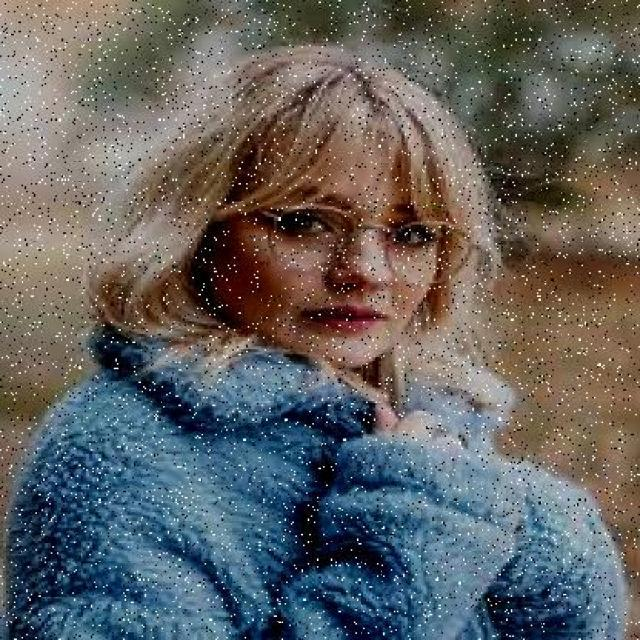glasses: (245, 198, 488, 291)
